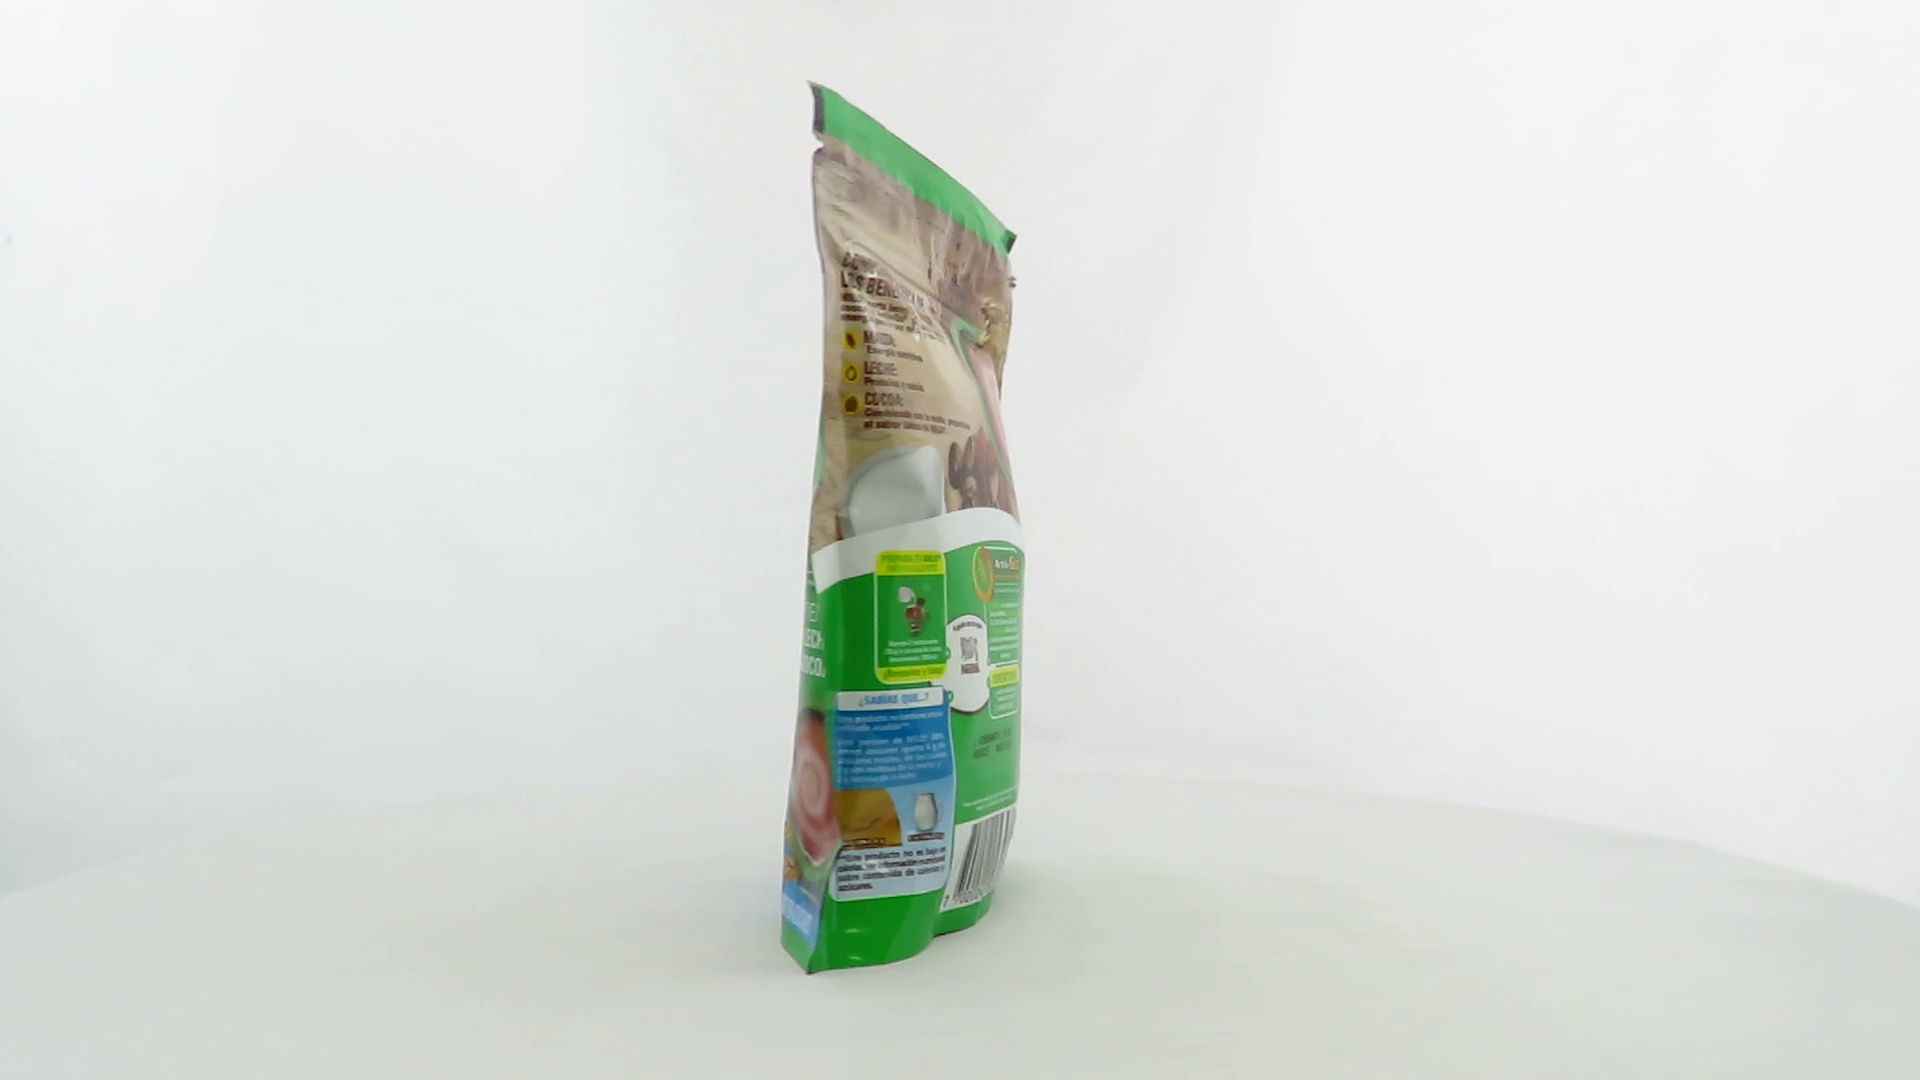COL0170205DYP20000: (774, 75, 1033, 981)
